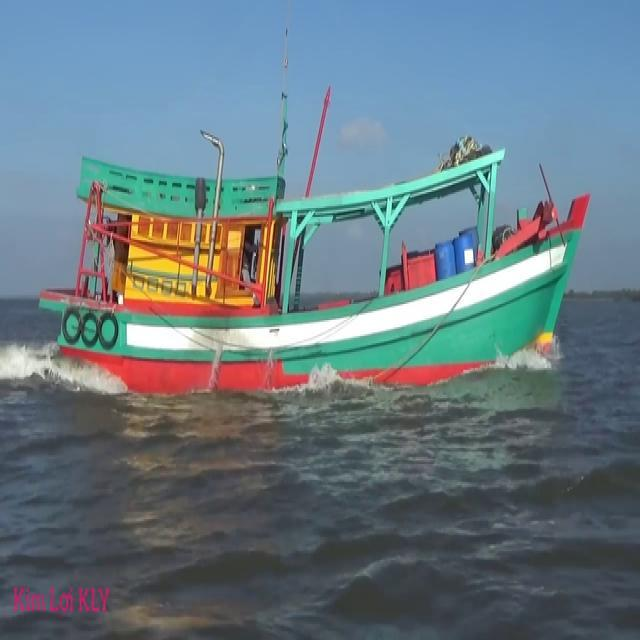Ship: (40, 107, 591, 398)
